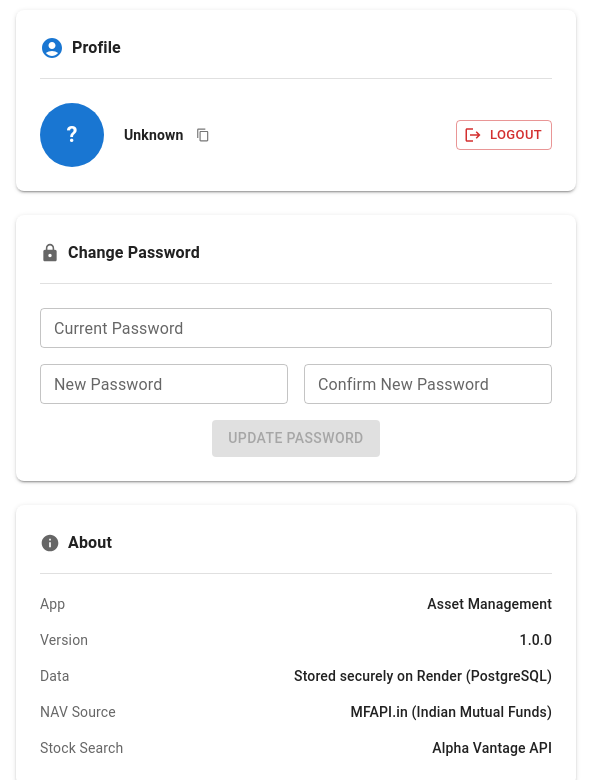
Test: Settings change password › shows error when new passwords do not match
Type "oldpass" into the password field labelled "Current Password" at (296, 328), box [40,308,552,348]
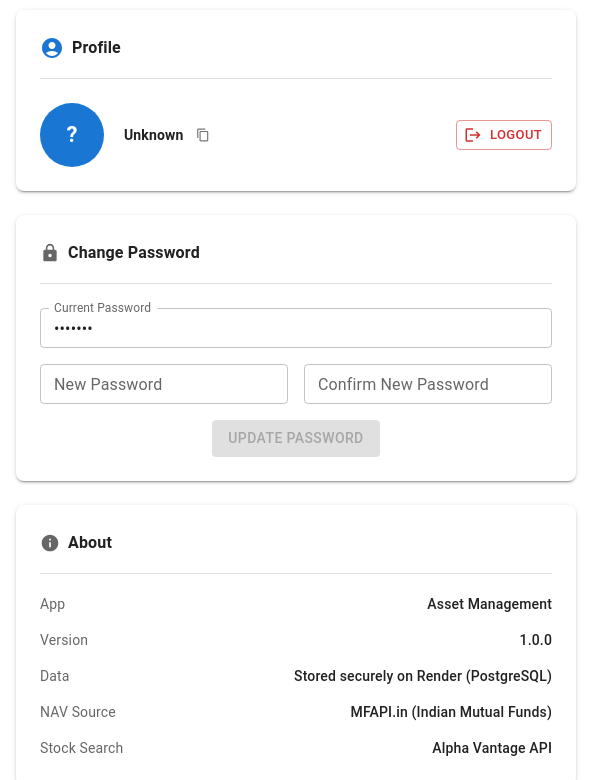
Type "newpass1" into the password field labelled "New Password" at (164, 384), box [40,364,288,404]
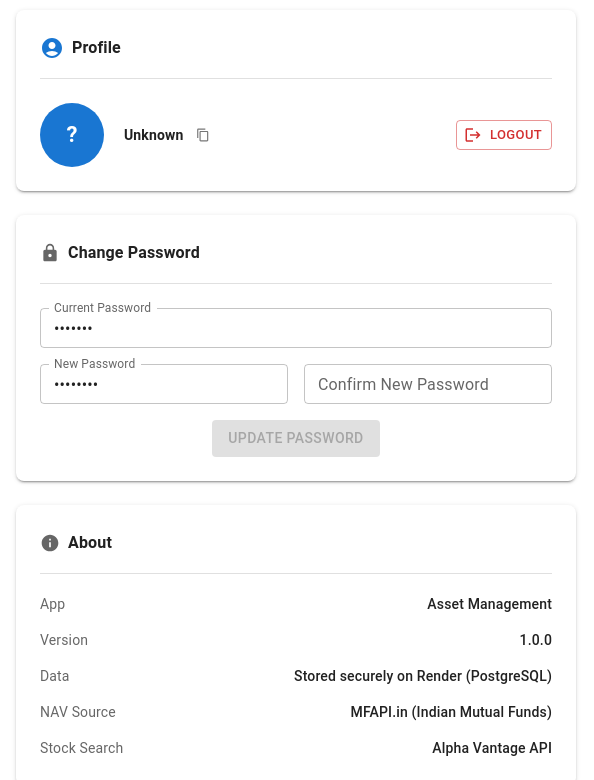
Type "newpass2" into the password field labelled "Confirm New Password" at (428, 384), box [304,364,552,404]
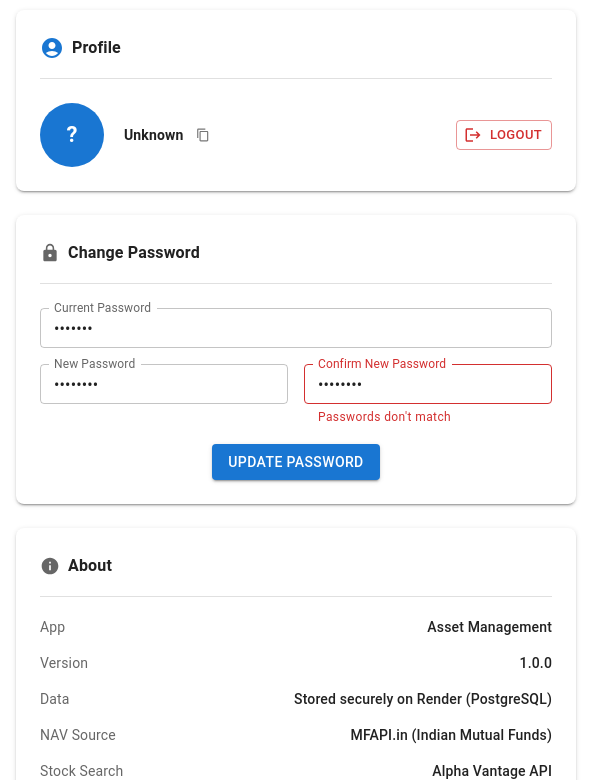
Click the button "Update Password" at (296, 462), box [212,444,380,480]
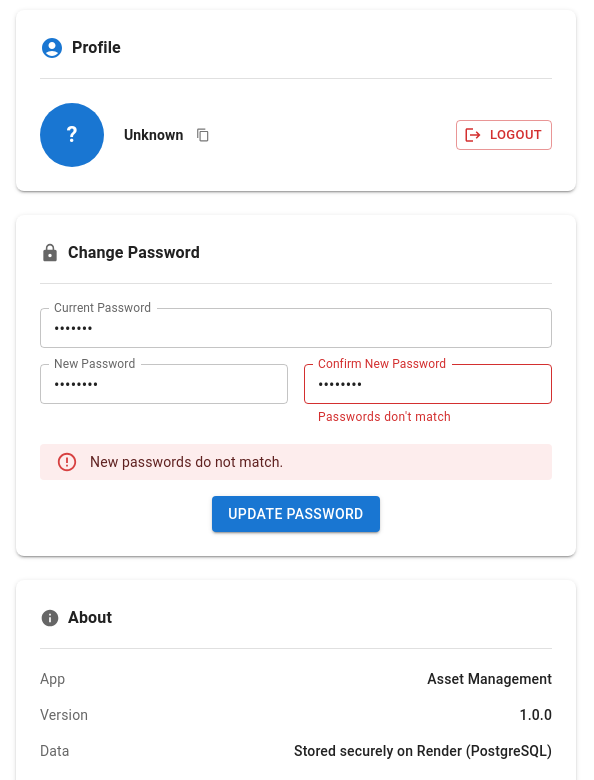
Expected: the text "New passwords do not match." is shown, [90,454,283,470]
